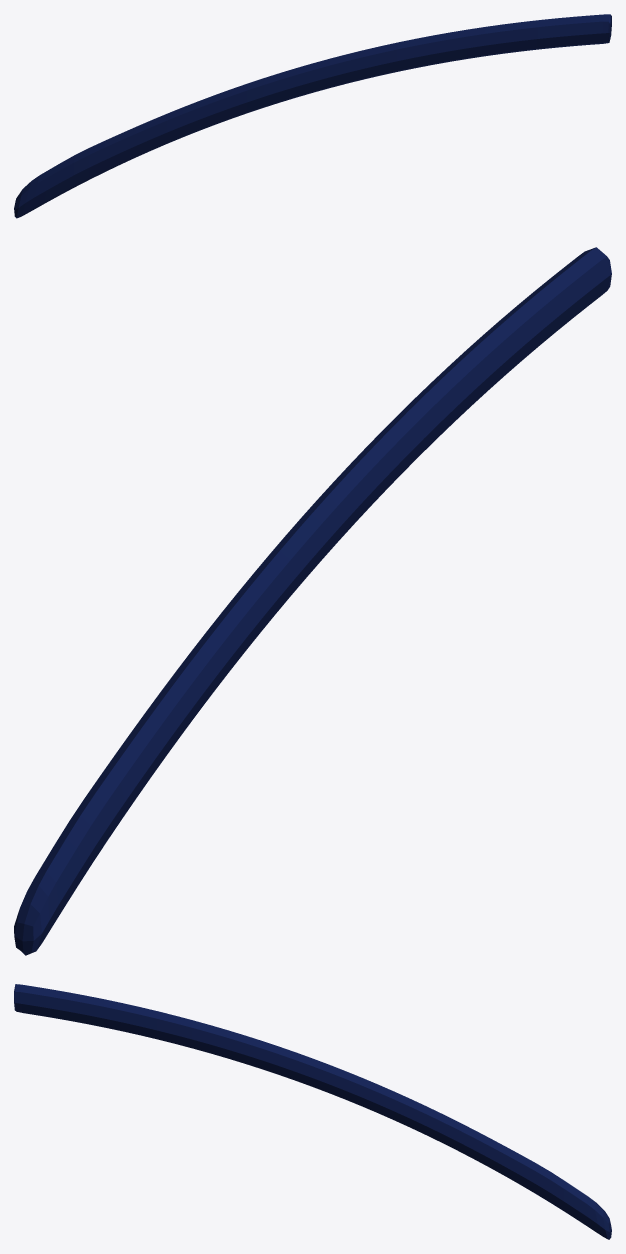
Rendered from Saya.fbx.
3 renders of one model, top to bottom at view 1: azimuth 90°, elevation 25°; view 2: azimuth 150°, elevation 25°; view 3: azimuth 270°, elevation 25°, orthographic. The views are drawn at different scales.
Parts seen in each view (by area): view 1: Saya.001; view 2: Saya.001; view 3: Saya.001.
Boxes of the visible parts, x1,y1,x2,y2 form: Saya.001: (14, 14, 611, 218); Saya.001: (14, 247, 611, 955); Saya.001: (14, 984, 611, 1239).
Bounding box in the file's own units: 25.12 × 76.65 × 181.
